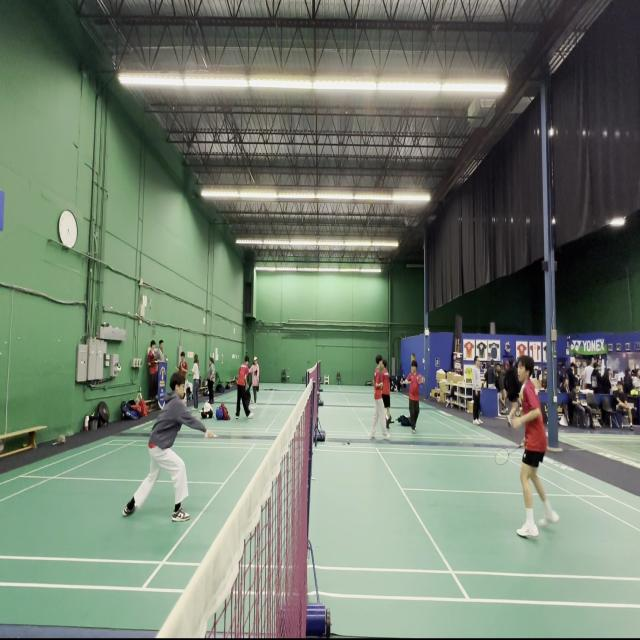shuttlecock: (260, 390, 275, 420)
